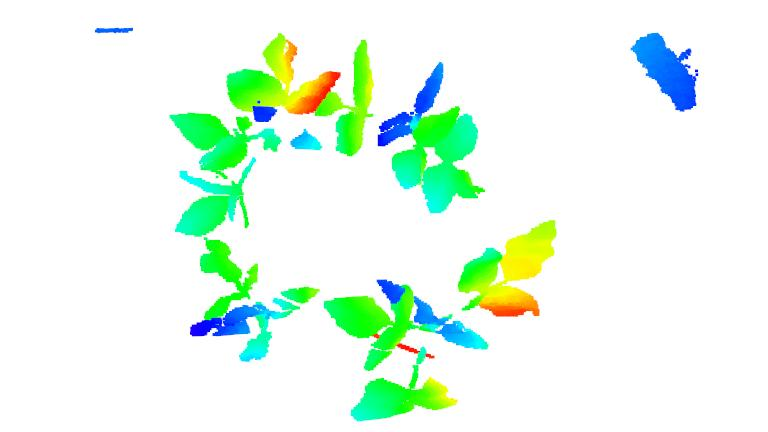mungbean: (323, 218, 565, 424), (166, 26, 337, 235), (317, 37, 485, 220), (183, 236, 321, 367)
